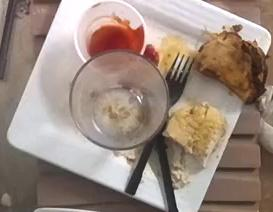pork: (194, 24, 265, 102), (166, 103, 226, 166)
